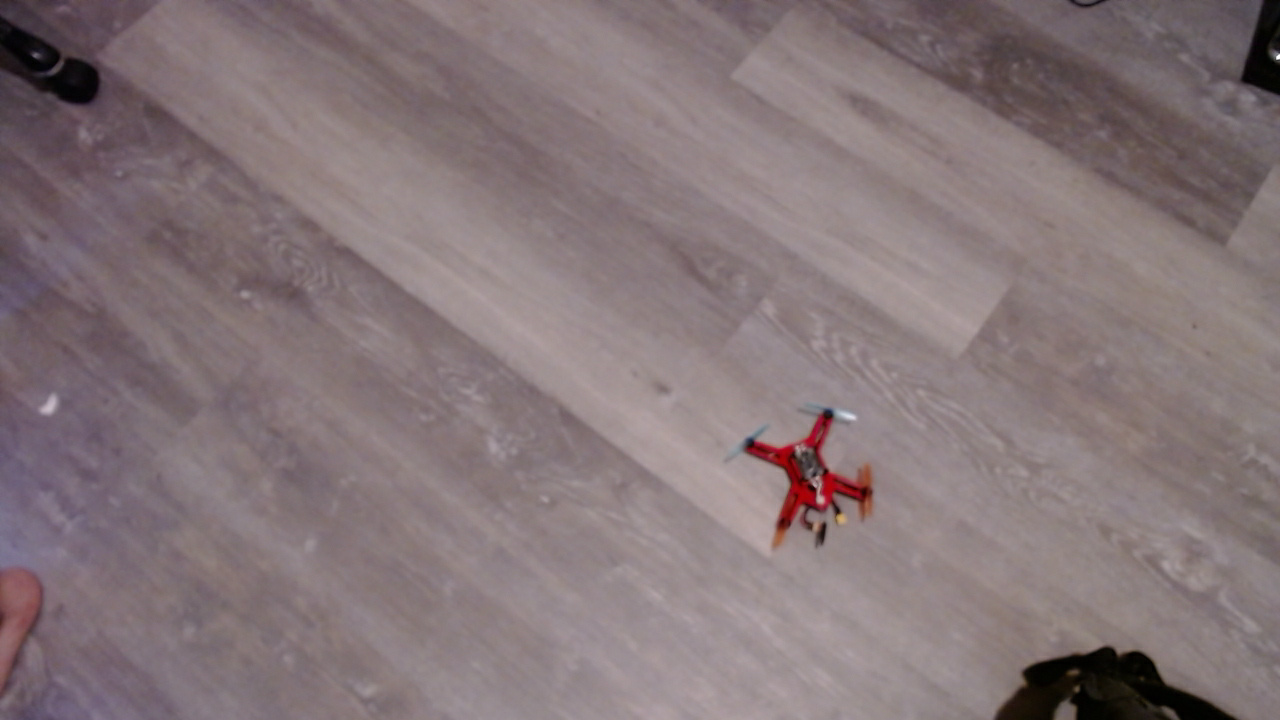crazyflie: (737, 400, 901, 557)
